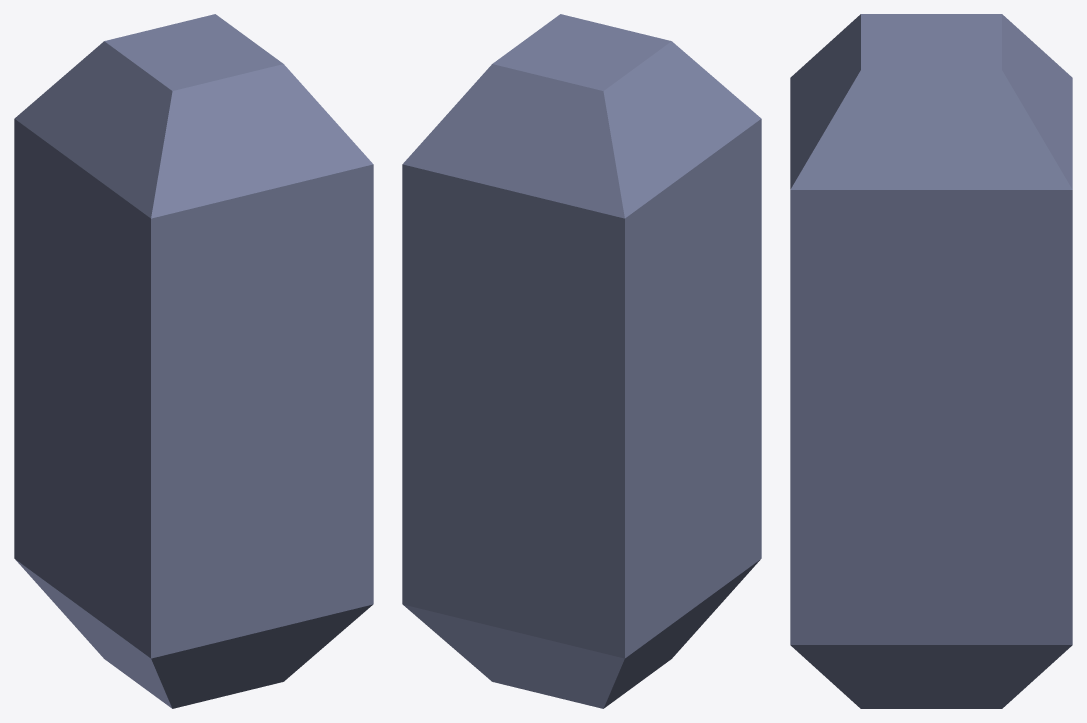
The model's file is Bandit3UpperArm.fbx.
3 renders of one model, left to right at view 1: azimuth 30°, elevation 25°; view 2: azimuth 150°, elevation 25°; view 3: azimuth 270°, elevation 25°, orthographic. The views are drawn at different scales.
Parts seen in each view (by area): view 1: Bandit3UpperArm; view 2: Bandit3UpperArm; view 3: Bandit3UpperArm.
Part boxes in pixels (x1,y1,x2,y2): Bandit3UpperArm: [14, 14, 373, 708]; Bandit3UpperArm: [402, 14, 761, 708]; Bandit3UpperArm: [790, 14, 1072, 708].
Bounding box in the file's own units: 0.1568 × 0.4161 × 0.1668.
